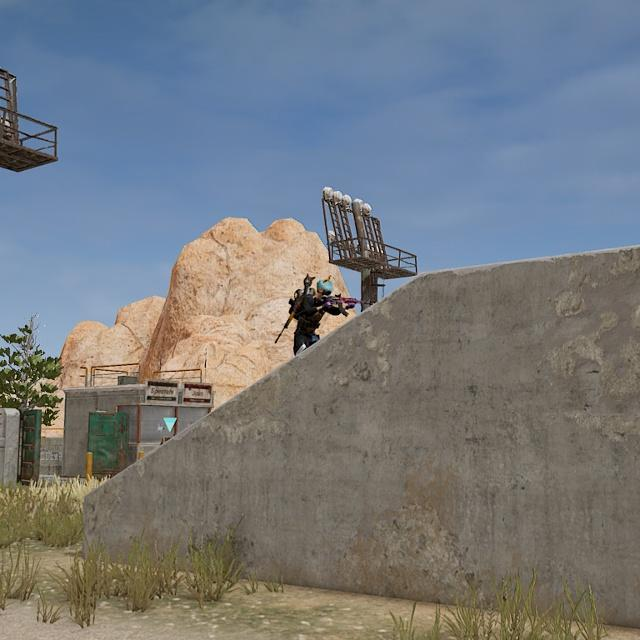head: (312, 276, 334, 300)
people: (287, 272, 341, 360)
